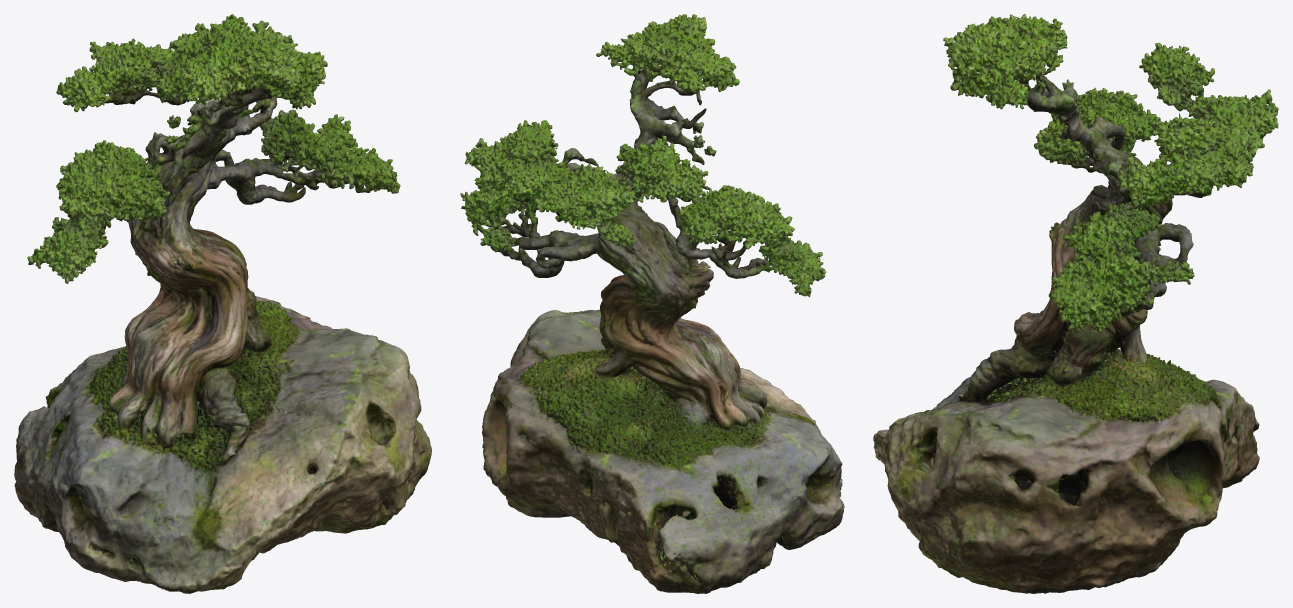
Rendered from tree.glb.
3 renders of one model, left to right at view 1: azimuth 30°, elevation 25°; view 2: azimuth 150°, elevation 25°; view 3: azimuth 270°, elevation 25°, orthographic. The views are drawn at different scales.
Bounding box in the file's own units: 1.43 × 1.9 × 1.35.
1 material, 1 textured.
